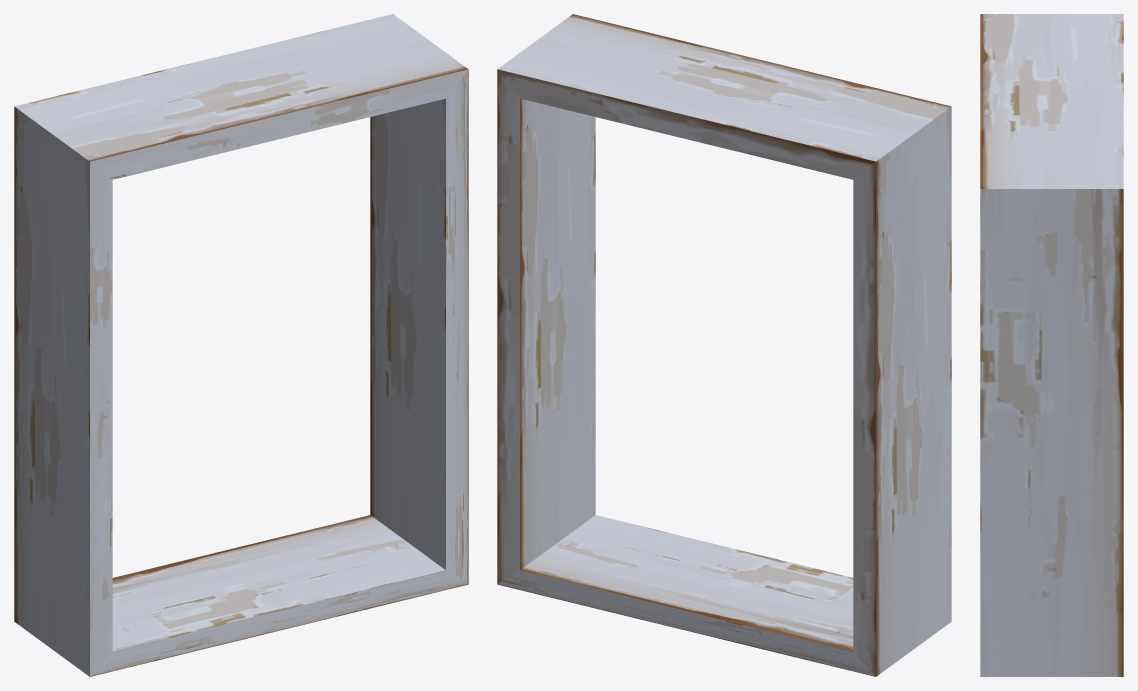
The model's file is MOD_Door_03_frame.fbx.
The picture shows the model from 3 angles, left to right: view 1: azimuth 30°, elevation 25°; view 2: azimuth 150°, elevation 25°; view 3: azimuth 270°, elevation 25°; orthographic projection. The views are drawn at different scales.
Visible parts, largest first — view 1: MOD_Door_03_frame; view 2: MOD_Door_03_frame; view 3: MOD_Door_03_frame.
Part boxes in pixels (x1,y1,x2,y2): MOD_Door_03_frame: (14, 14, 468, 676); MOD_Door_03_frame: (497, 14, 951, 676); MOD_Door_03_frame: (980, 14, 1123, 676).
Bounding box in the file's own units: 200 × 260 × 69.08.
